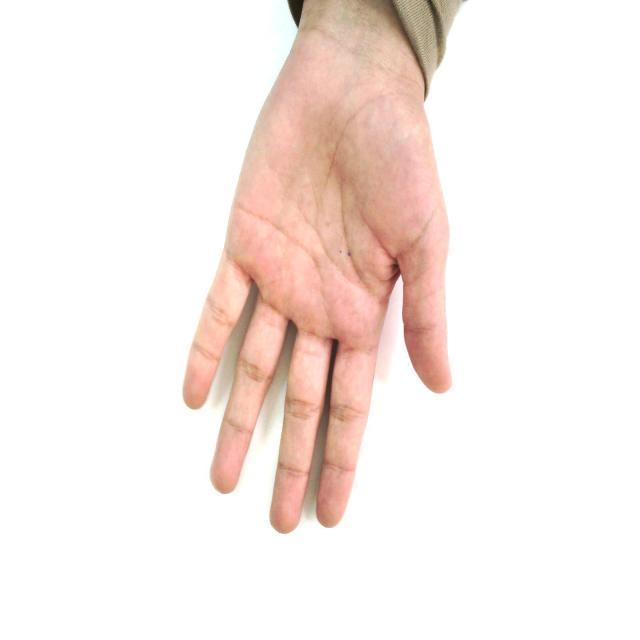hand: (182, 6, 452, 534)
